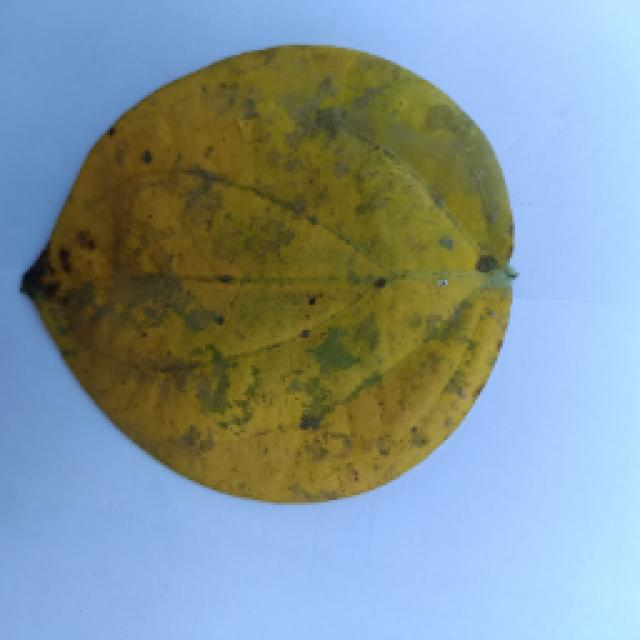slow-decline: (3, 50, 545, 512)
